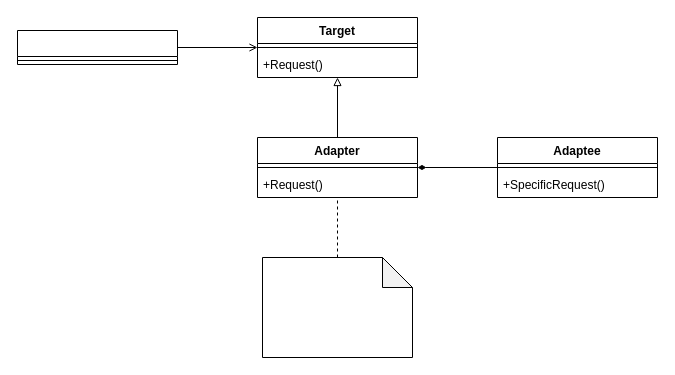
This 675x375 diagram has some shape labels left out. Each missing label, with the centre of its shape:
"Client" belongs at pixel 97 47.
"function Request(){ SpecificRequest(); }" belongs at pixel 337 307.
